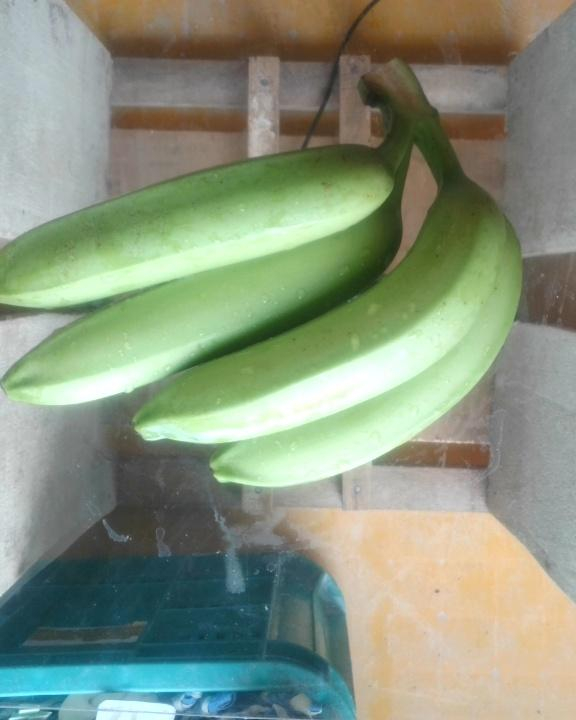SPOT: (1, 58, 540, 503)
